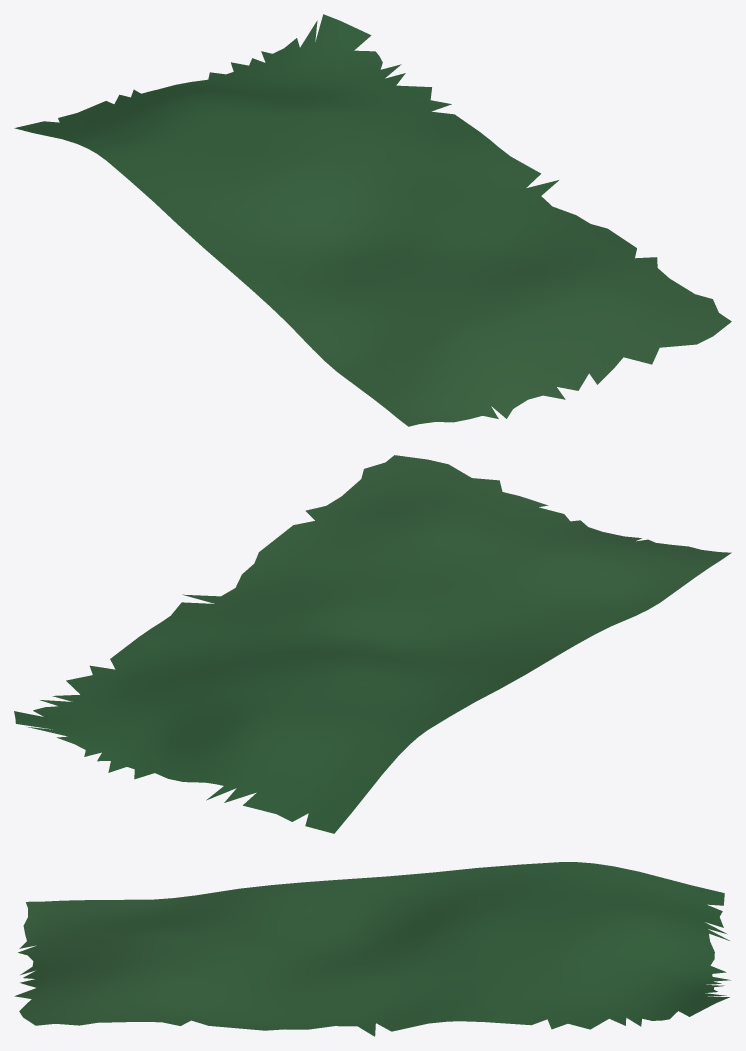
The model's file is payo_land_x4_y7.glb.
3 views of the same model, one above another, from view 1: azimuth 30°, elevation 25°; view 2: azimuth 150°, elevation 25°; view 3: azimuth 270°, elevation 25° (orthographic). The views are drawn at different scales.
Visible parts, largest first — view 1: payo_land_x4_y7; view 2: payo_land_x4_y7; view 3: payo_land_x4_y7.
Part boxes in pixels (bbox=[...]): payo_land_x4_y7: bbox=[14, 14, 731, 426]; payo_land_x4_y7: bbox=[14, 455, 731, 833]; payo_land_x4_y7: bbox=[14, 862, 730, 1036].
Size of the model in its own units: 132 by 21.14 by 266.
